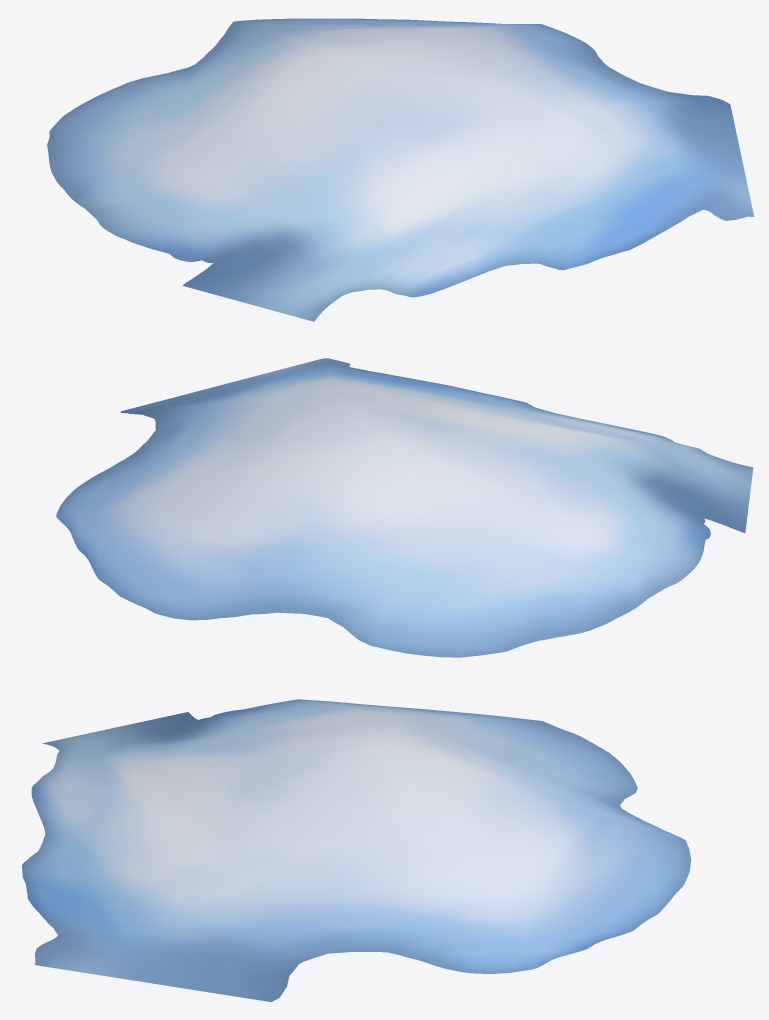
File: JiXue01.FBX
3 views of the same model, one above another, from view 1: azimuth 30°, elevation 25°; view 2: azimuth 150°, elevation 25°; view 3: azimuth 270°, elevation 25° (orthographic). The views are drawn at different scales.
Parts seen in each view (by area): view 1: 对象027; view 2: 对象027; view 3: 对象027.
Boxes of the visible parts, <box> form: 对象027: <box>47,18,754,321</box>; 对象027: <box>56,358,753,657</box>; 对象027: <box>22,699,691,1002</box>.
Bounding box in the file's own units: 49.48 × 6.92 × 48.28.
